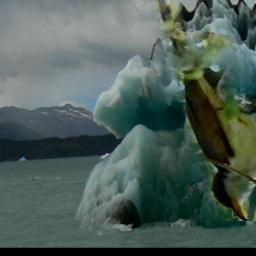Cuckoo: (156, 0, 256, 222)
